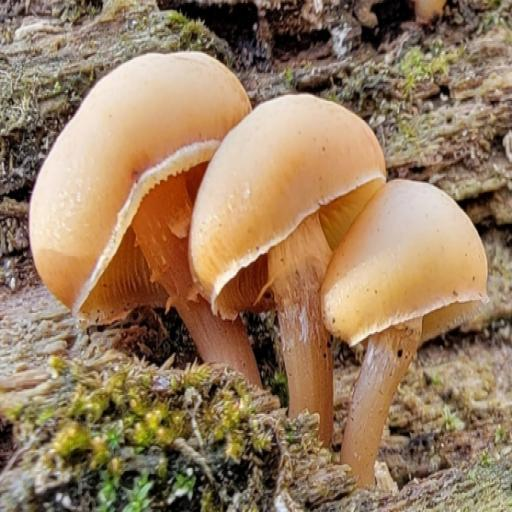mushroom: (28, 43, 493, 463)
